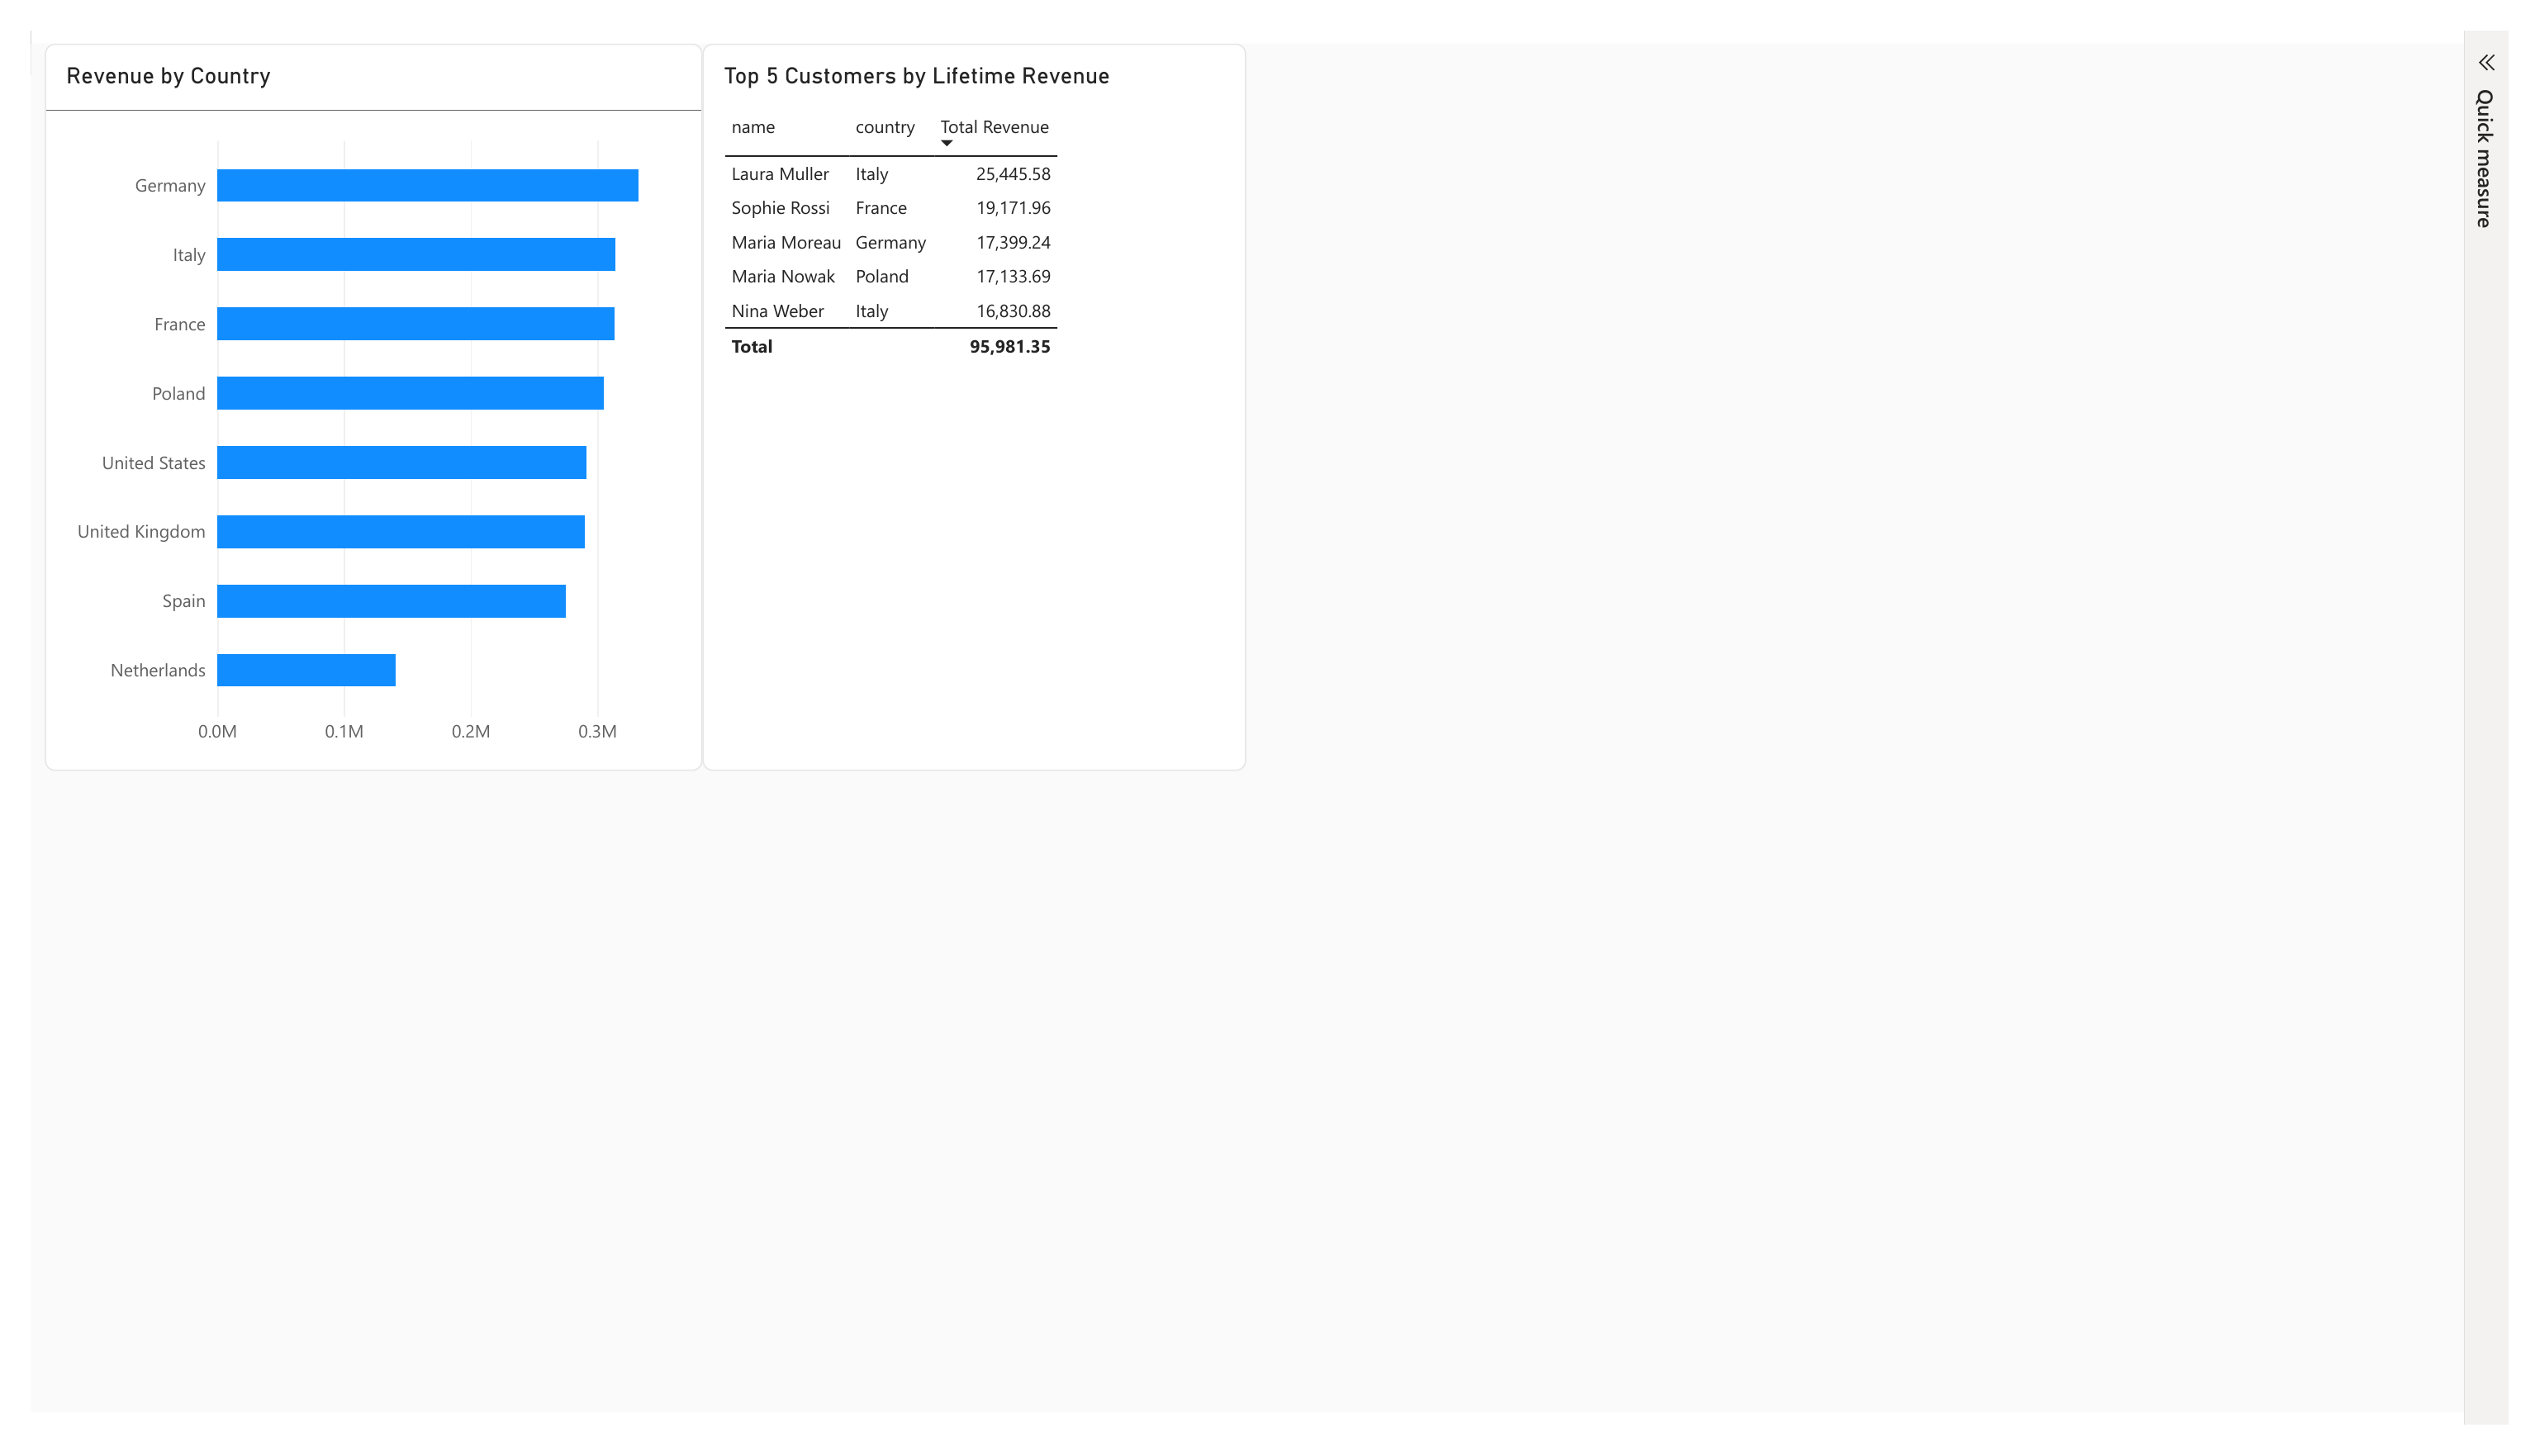

This screenshot's page, from the dashboard's own definition file:
{"tool":"powerbi","page":{"name":"Customers","canvas":[1920,1080],"ordinal":3},"visuals":[{"type":"clusteredBarChart","title":"Revenue by Country","fields":{"Category":["dim_customer.country"],"Y":["fact_sales.Total Revenue"]},"box":[11.1,0,518.5,574.1],"z":0},{"type":"tableEx","title":"Top 5 Customers by Lifetime Revenue","fields":{"Values":["dim_customer.name","dim_customer.country","fact_sales.Total Revenue"]},"box":[529.6,0,429.6,574.1],"z":1}]}

Visuals, with their boxes on the page's 1920x1080 design canvas (x1, y1, x2, y2). These are canvas units, not pixel positions in the 2540x1456 screenshot, which may show the page scaled, cropped or inside an application window:
"Revenue by Country" clusteredBarChart: x1=11 y1=0 x2=530 y2=574
"Top 5 Customers by Lifetime Revenue" tableEx: x1=530 y1=0 x2=959 y2=574
